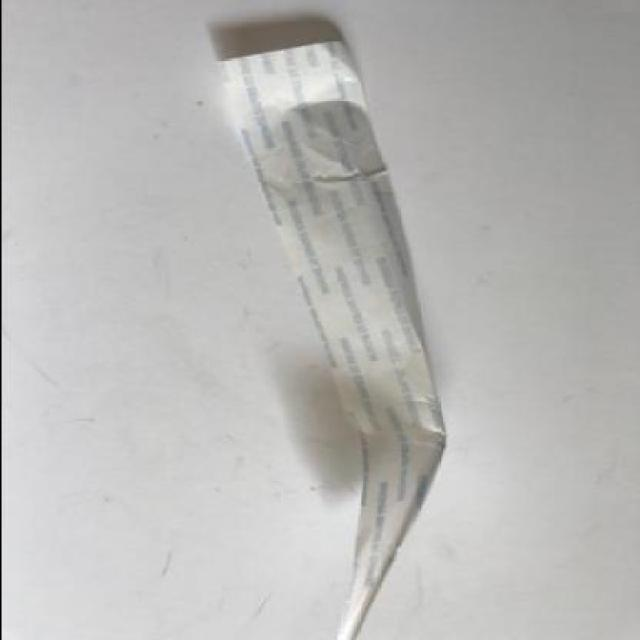PAPER: (210, 41, 442, 638)
